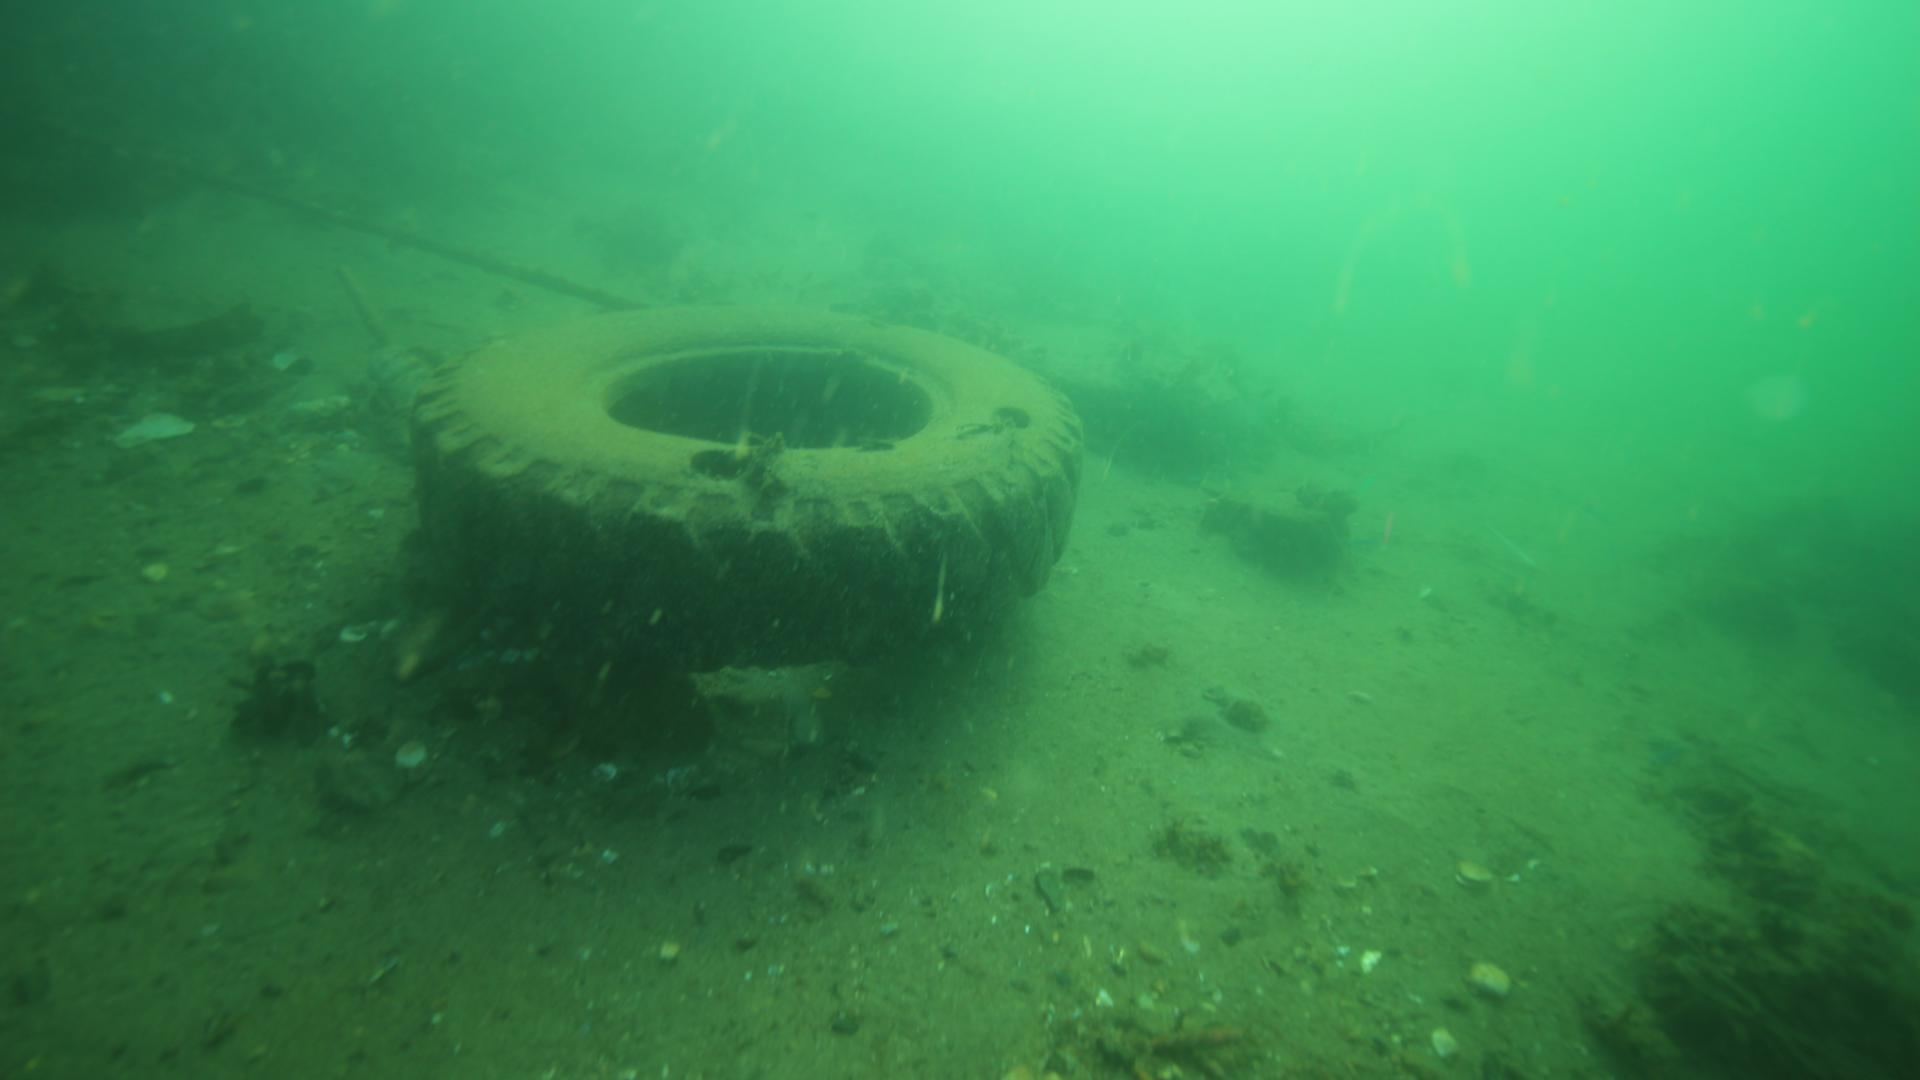tire: (411, 291, 1089, 717)
